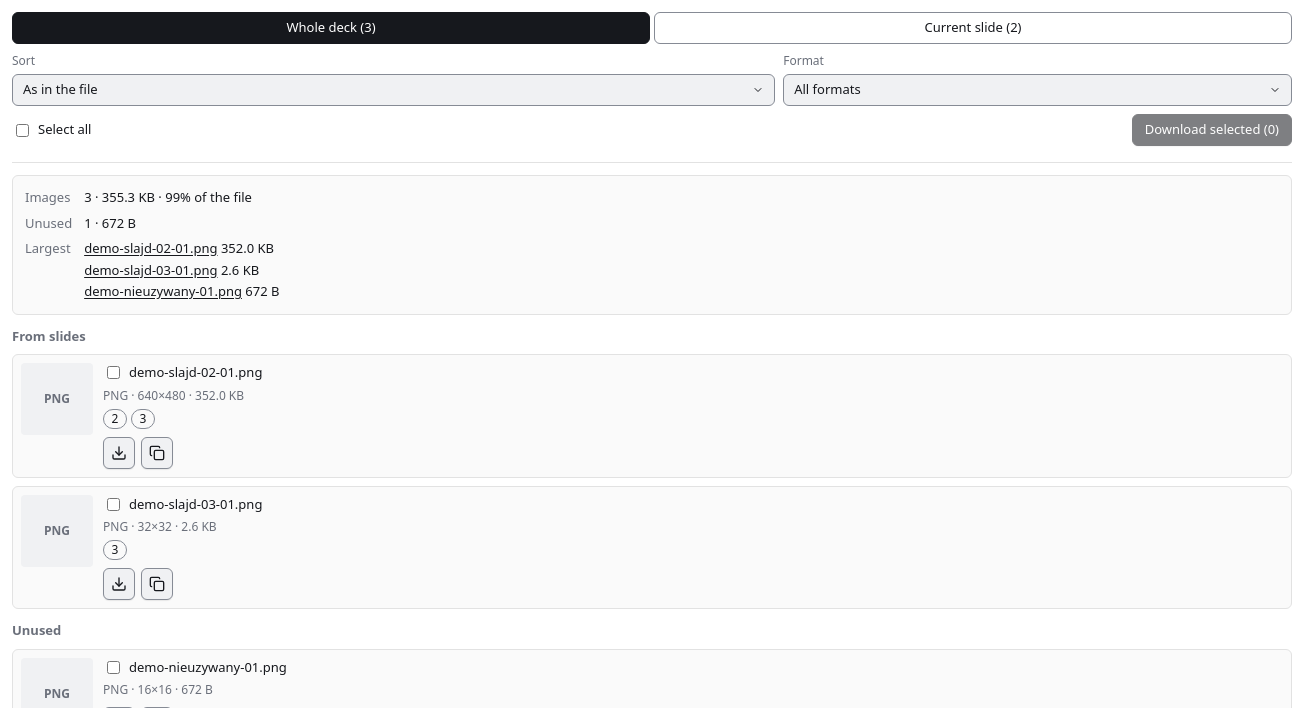
ImagePanel › shows only the images of the current slide in that scope
Click the button "Current slide (2)". click: (973, 28)
box: [654,12,1292,44]
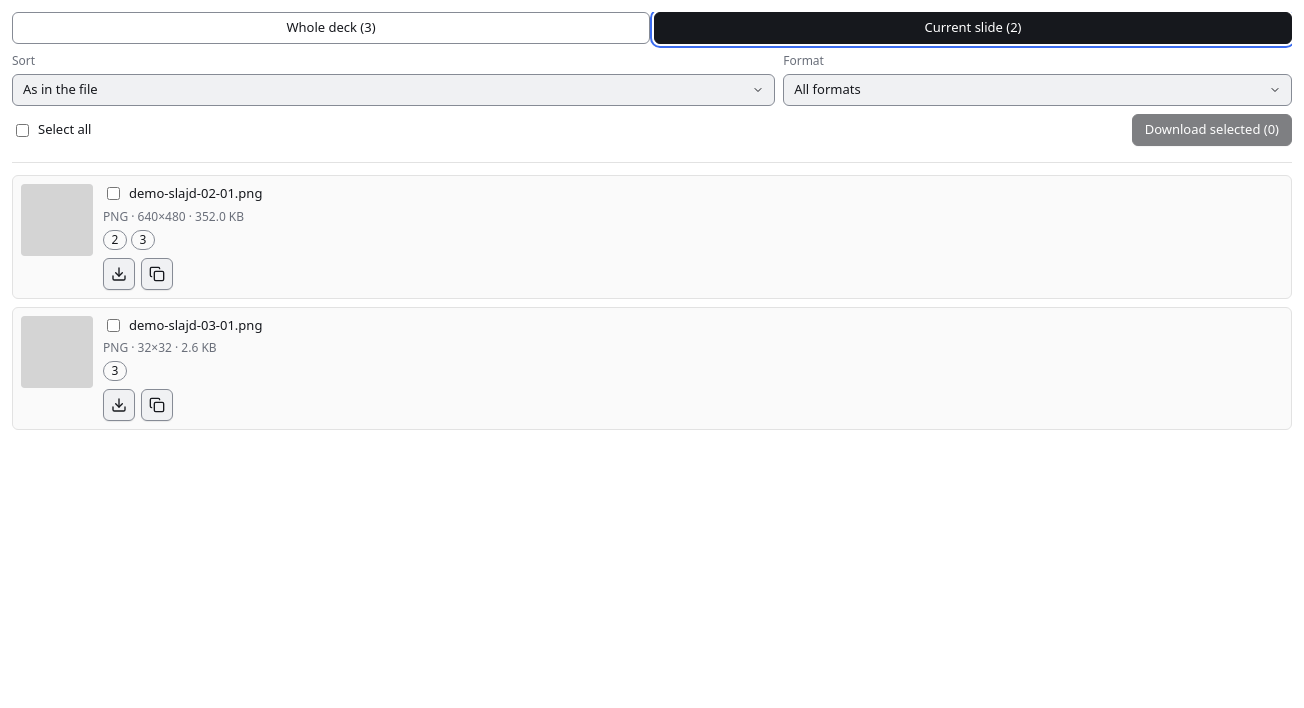
Check: the number of list items with class "tile" is 2, box [12,175,1292,298]; [12,306,1292,430]
